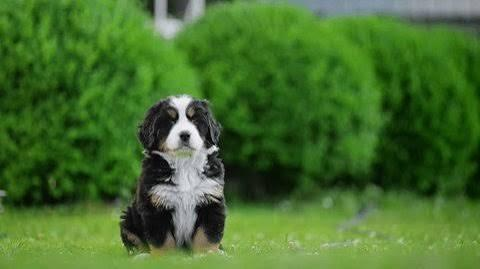puppy-dog: (116, 94, 229, 259)
